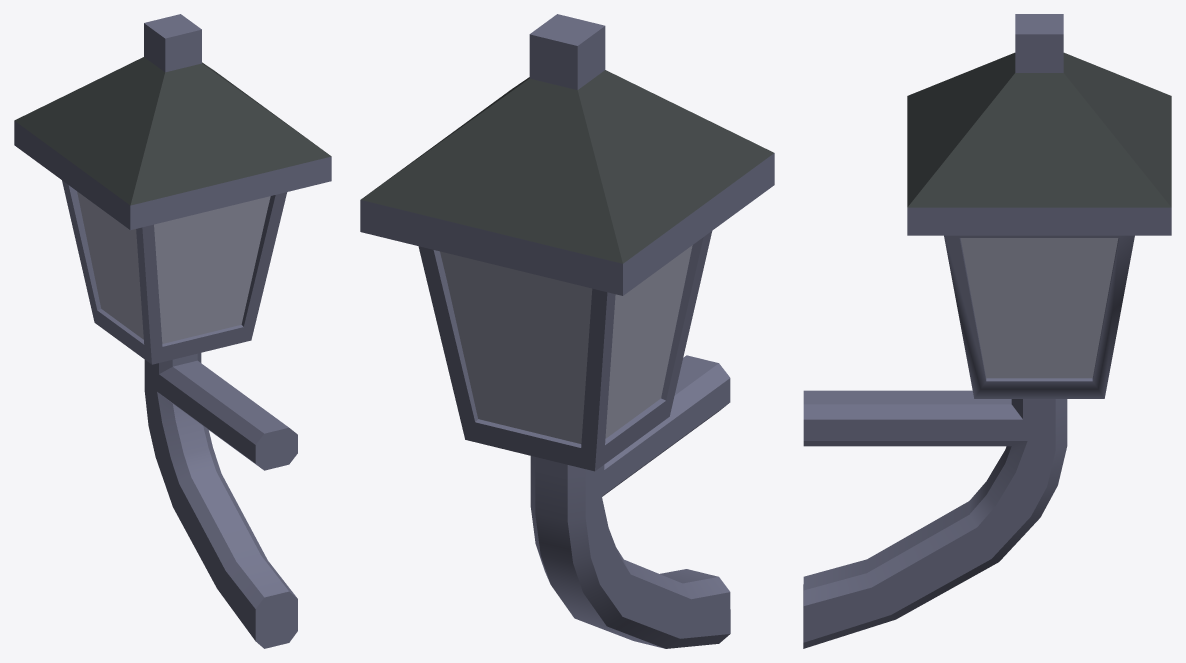
File: WallLight.fbx
3 renders of one model, left to right at view 1: azimuth 30°, elevation 25°; view 2: azimuth 150°, elevation 25°; view 3: azimuth 270°, elevation 25°, orthographic. The views are drawn at different scales.
Parts seen in each view (by area): view 1: pCube186; view 2: pCube186; view 3: pCube186.
Boxes of the visible parts, x1,y1,x2,y2 form: pCube186: (14, 14, 331, 648); pCube186: (360, 14, 774, 648); pCube186: (803, 14, 1171, 648).
Bounding box in the file's own units: 0.2987 × 0.7709 × 0.4163.
